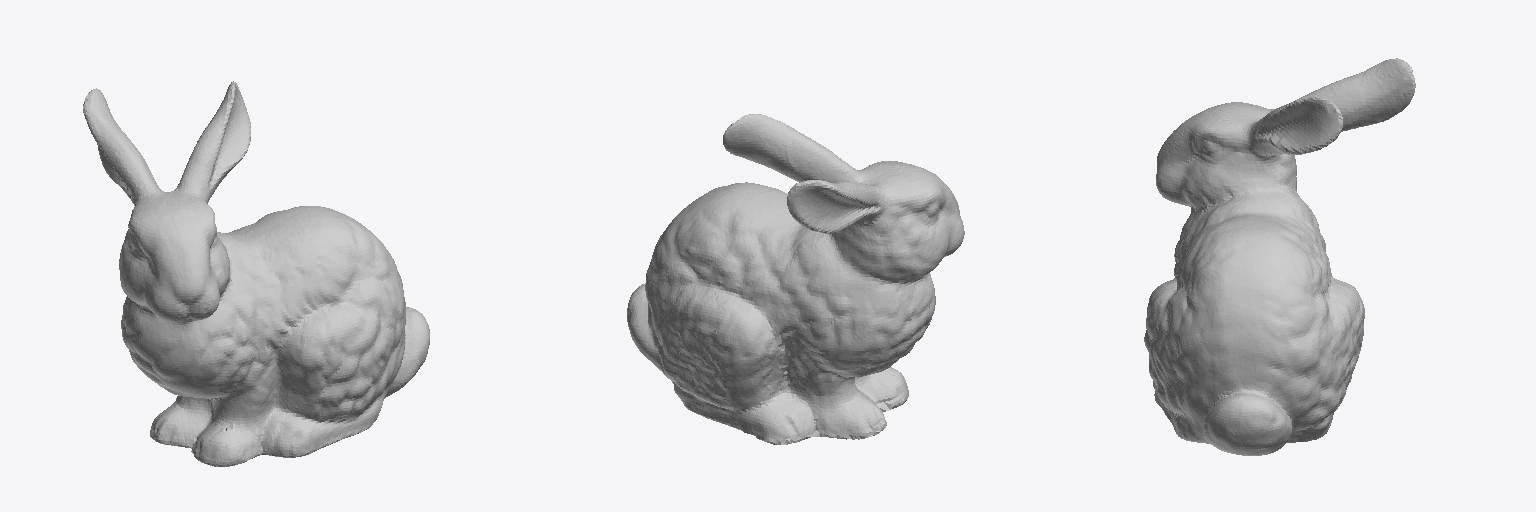
The model's file is bunny_optimized.obj.
3 views of the same model, side by side, from view 1: azimuth 30°, elevation 25°; view 2: azimuth 150°, elevation 25°; view 3: azimuth 270°, elevation 25° (orthographic).
Parts seen in each view (by area): view 1: surface; view 2: surface; view 3: surface.
Boxes of the visible parts, <box> form: surface: <box>83,81,429,466</box>; surface: <box>627,114,964,444</box>; surface: <box>1144,58,1415,455</box>.
Bounding box in the file's own units: 156 × 154 × 121.